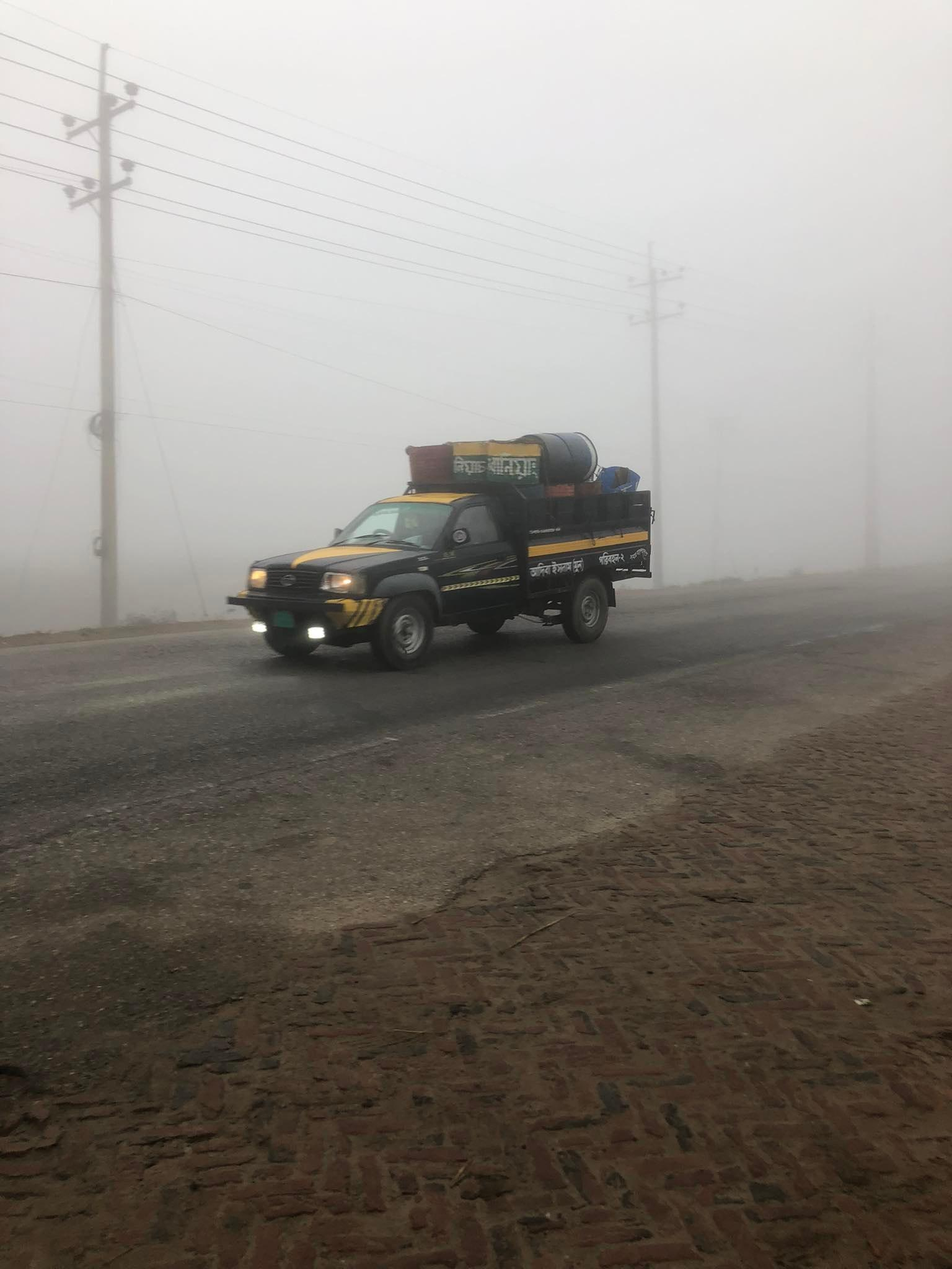Truck: (213, 414, 693, 659)
